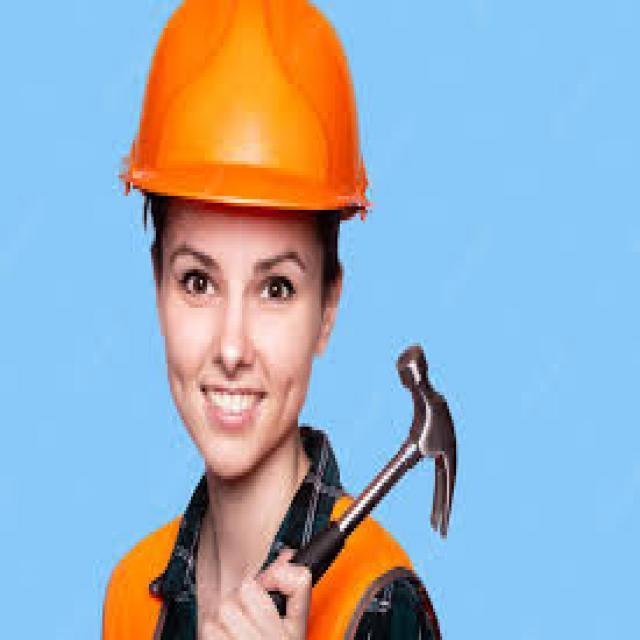hammer: (238, 335, 462, 640)
